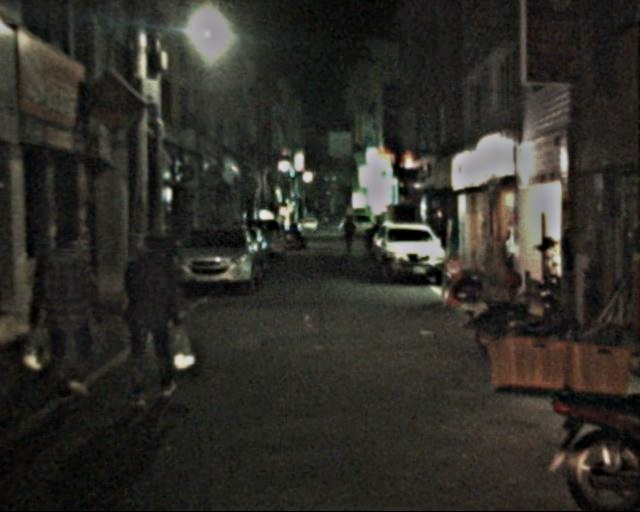person: (114, 229, 185, 408), (34, 224, 105, 399), (339, 215, 357, 253)
